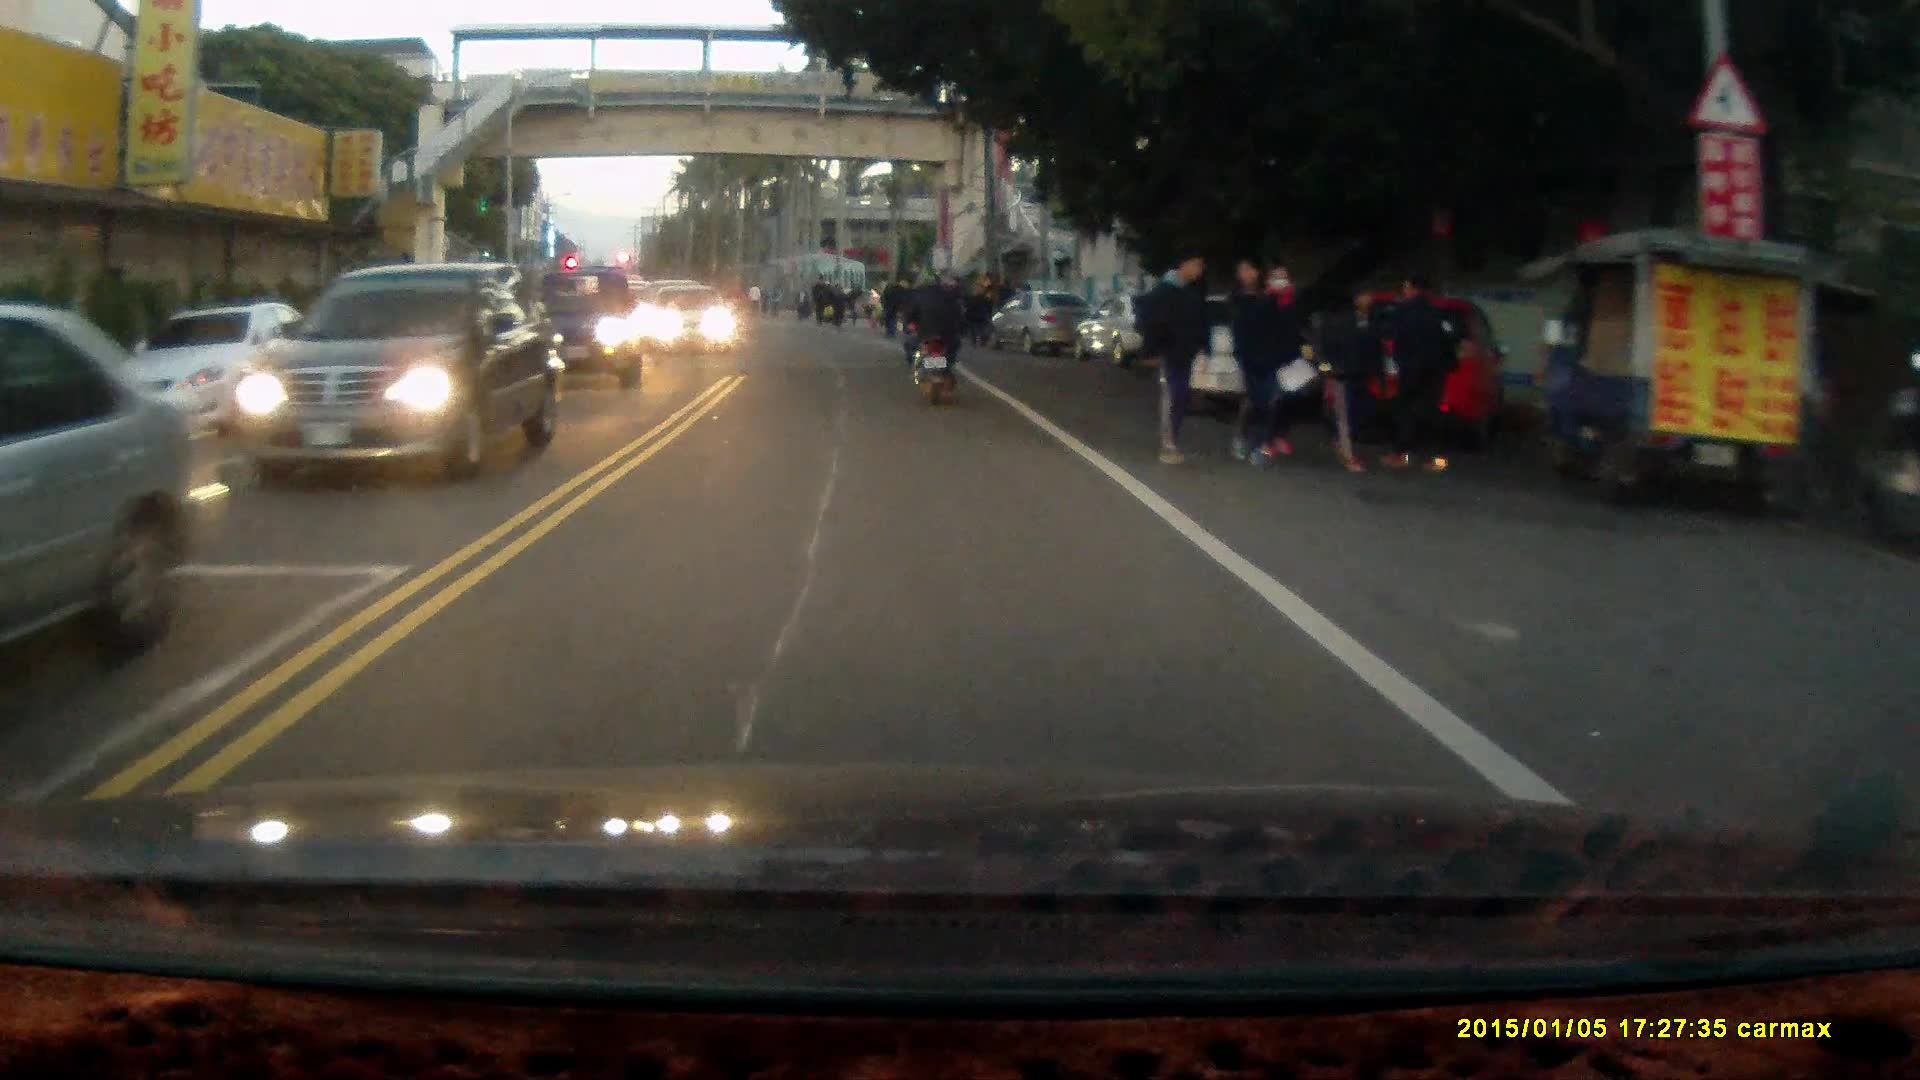pedestrian: (1136, 243, 1216, 470), (1387, 272, 1461, 480), (1322, 282, 1400, 475), (1222, 251, 1290, 468), (1243, 256, 1295, 450)
rider: (894, 270, 964, 405)
vehicle: (239, 259, 568, 486), (1, 337, 210, 682), (1296, 290, 1504, 451), (1157, 285, 1373, 425), (507, 269, 645, 392), (1073, 288, 1199, 367), (987, 292, 1097, 357), (652, 286, 743, 359)
